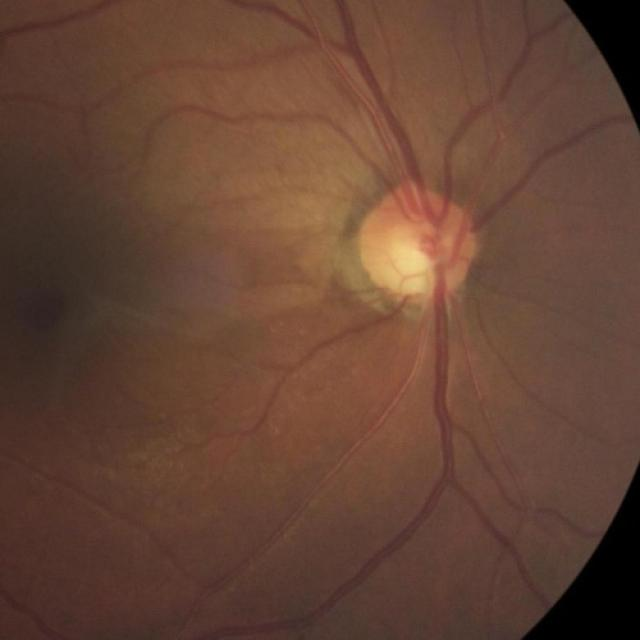OC: (382, 218, 440, 279)
OD: (358, 184, 478, 302)
